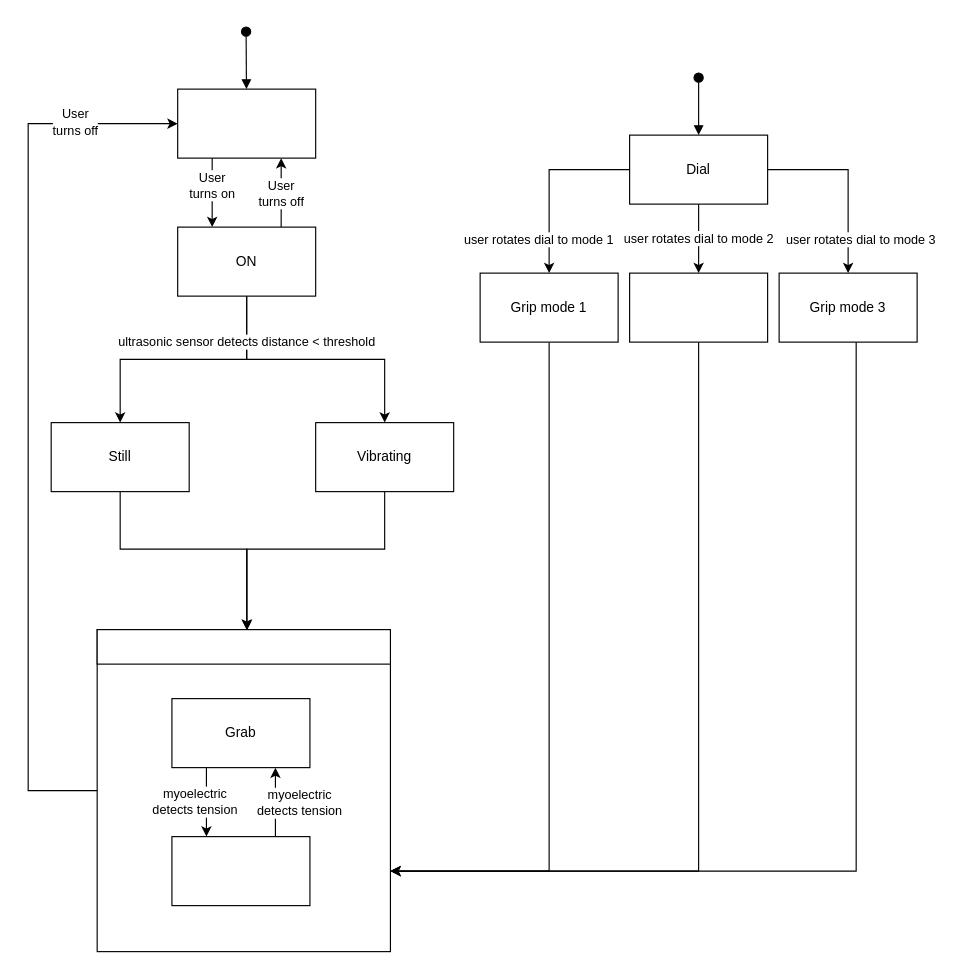
Some shapes in this 955 by 972 pixel diagram are drawn without their labels. Each missing label, with the centre of its shape:
"Grip" goes at pixel 243 646.
"Grip mode 2" goes at pixel 698 307.
"OFF" goes at pixel 246 123.
"Release" goes at pixel 240 870.
